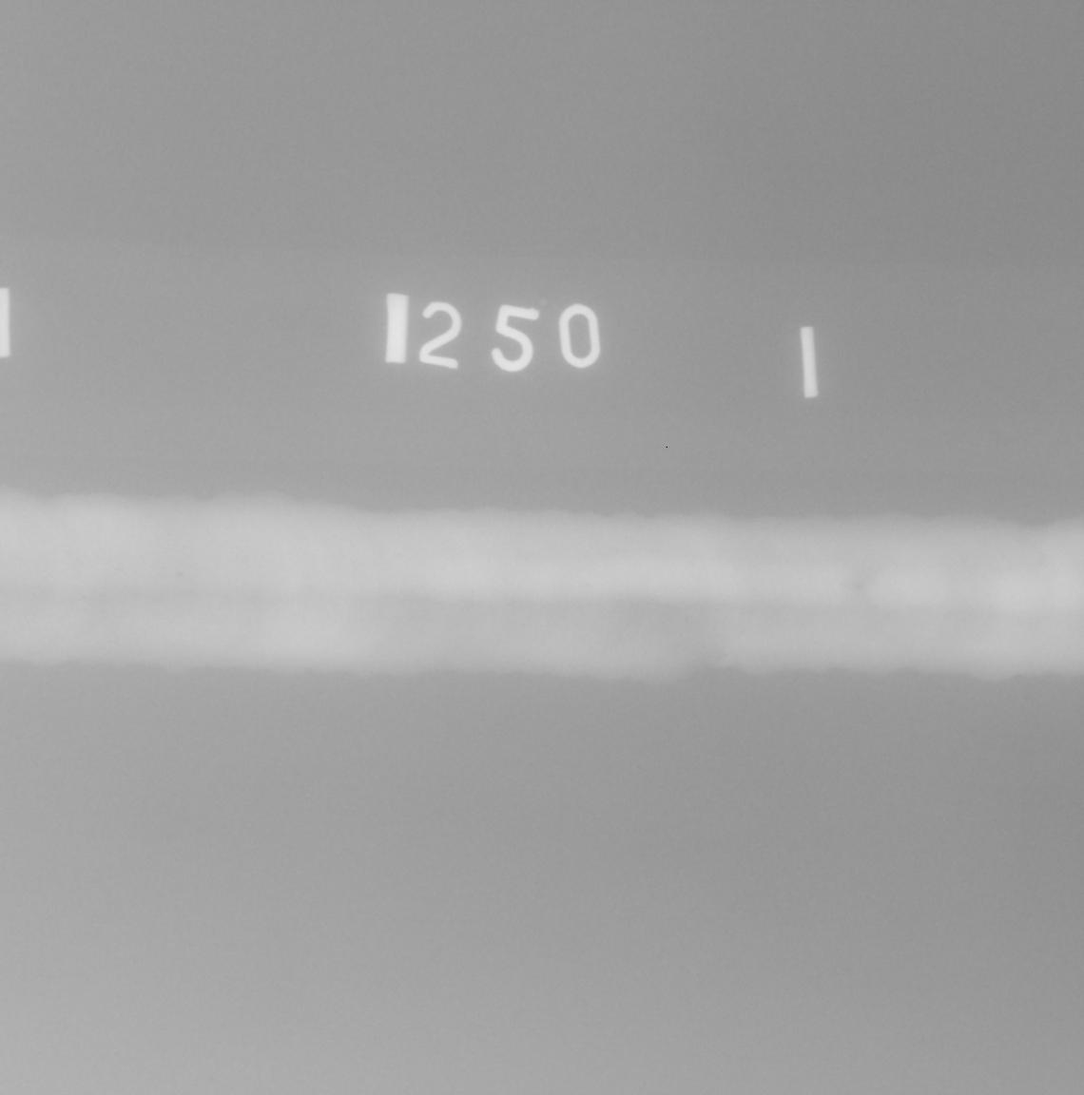Inclusion: (856, 585, 860, 590)
Pore/Porosity: (177, 573, 182, 577), (115, 568, 120, 571), (17, 594, 20, 598), (82, 596, 86, 599), (80, 563, 84, 566), (471, 590, 475, 593)
